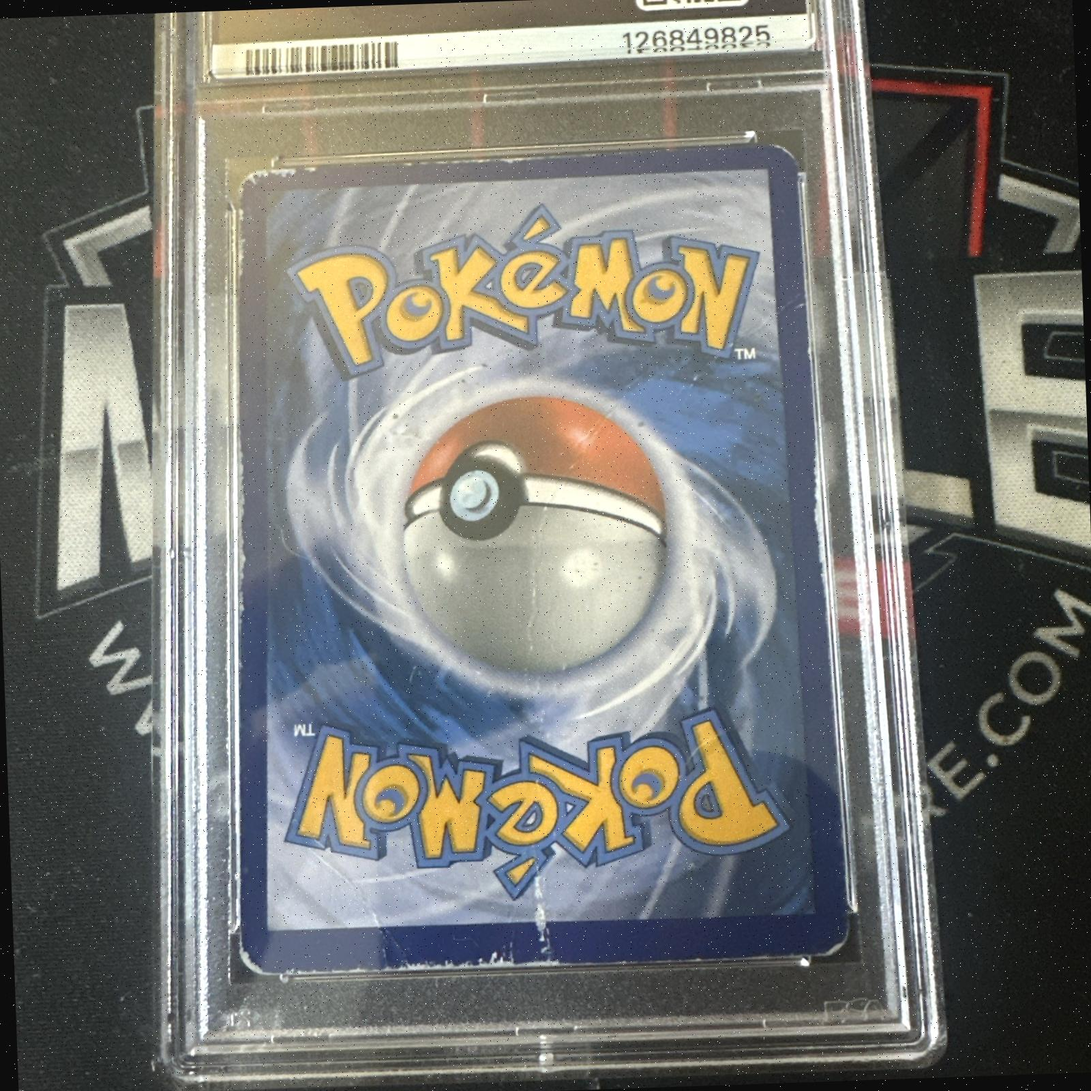card-2UtV: (238, 145, 850, 976)
